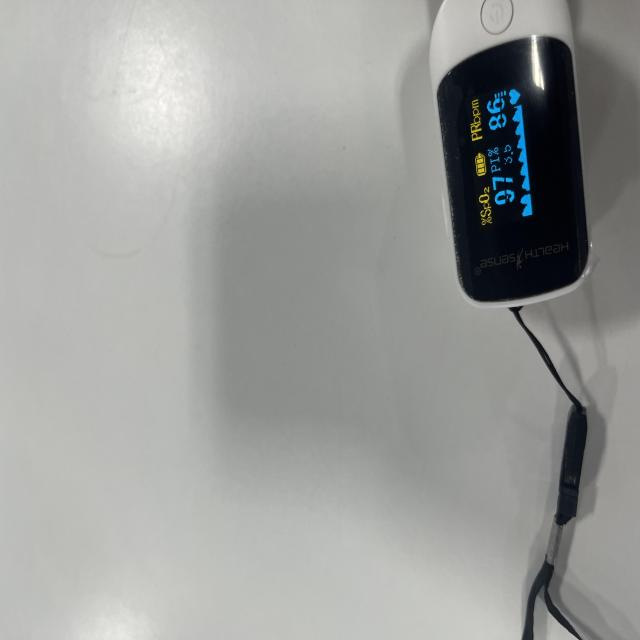spo2: (428, 0, 640, 349)
